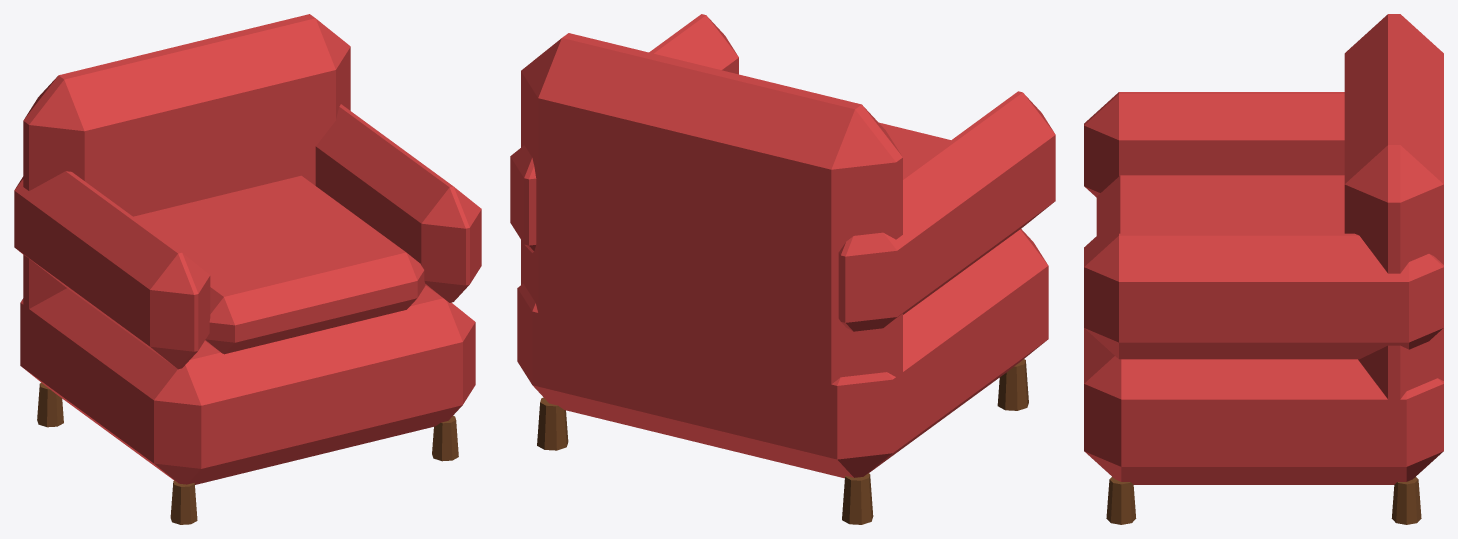
Rendered from RedArmchair.fbx.
3 views of the same model, side by side, from view 1: azimuth 30°, elevation 25°; view 2: azimuth 150°, elevation 25°; view 3: azimuth 270°, elevation 25° (orthographic). The views are drawn at different scales.
Visible parts, largest first — view 1: RedArmchair; view 2: RedArmchair; view 3: RedArmchair.
Boxes of the visible parts, bbox=[...] form: RedArmchair: bbox=[14, 14, 481, 524]; RedArmchair: bbox=[510, 14, 1055, 524]; RedArmchair: bbox=[1084, 14, 1443, 524].
Size of the model in its own units: 3.3 by 3.3 by 2.9.
1 material, 1 textured.
